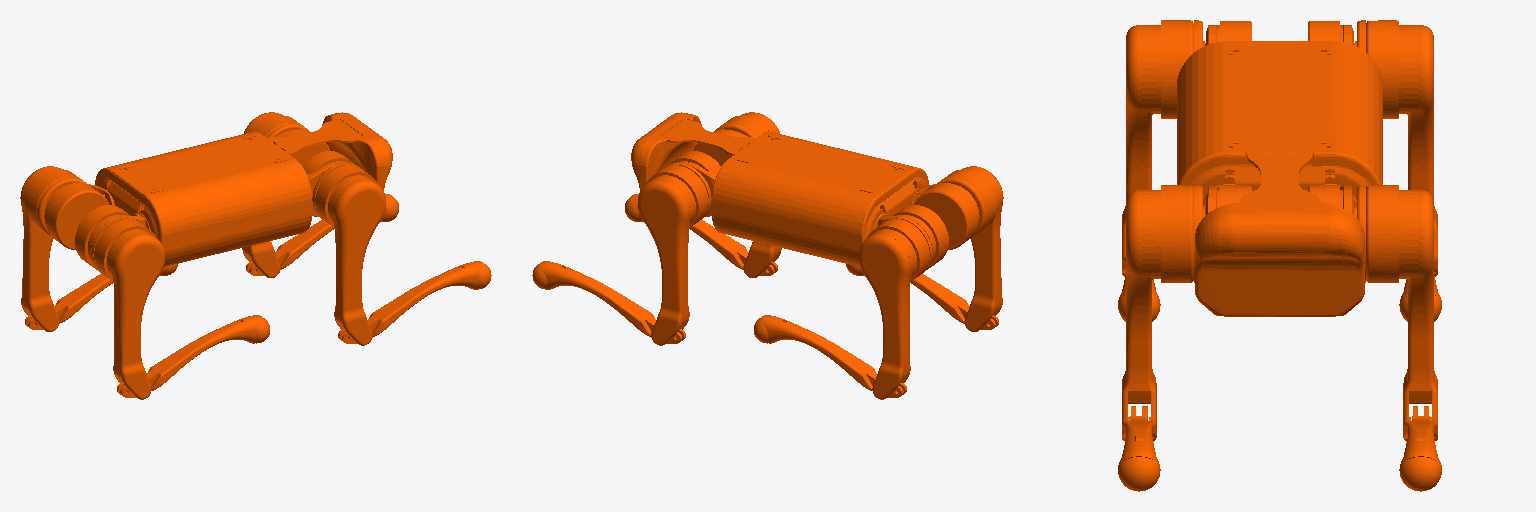
robot.urdf — a1_description:
<?xml version="1.0" ?>
<!-- =================================================================================== -->
<!-- |    This document was autogenerated by xacro from robot.xacro                    | -->
<!-- |    EDITING THIS FILE BY HAND IS NOT RECOMMENDED                                 | -->
<!-- =================================================================================== -->
<robot name="a1_description" xmlns:xacro="http://www.ros.org/wiki/xacro">
  <material name="black">
    <color rgba="0.0 0.0 0.0 1.0"/>
  </material>
  <material name="blue">
    <color rgba="0.0 0.0 0.8 1.0"/>
  </material>
  <material name="green">
    <color rgba="0.0 0.8 0.0 1.0"/>
  </material>
  <material name="grey">
    <color rgba="0.2 0.2 0.2 1.0"/>
  </material>
  <material name="silver">
    <color rgba="0.913725490196 0.913725490196 0.847058823529 1.0"/>
  </material>
  <material name="orange">
    <color rgba="1.0 0.423529411765 0.0392156862745 1.0"/>
  </material>
  <material name="brown">
    <color rgba="0.870588235294 0.811764705882 0.764705882353 1.0"/>
  </material>
  <material name="red">
    <color rgba="0.8 0.0 0.0 1.0"/>
  </material>
  <material name="white">
    <color rgba="1.0 1.0 1.0 1.0"/>
  </material>
  <link name="base">
    <visual>
      <origin rpy="0 0 0" xyz="0 0 0"/>
      <geometry>
        <box size="0.001 0.001 0.001"/>
      </geometry>
    </visual>
  </link>
  <joint name="floating_base" type="fixed">
    <origin rpy="0 0 0" xyz="0 0 0"/>
    <parent link="base"/>
    <child link="trunk"/>
  </joint>
  <link name="trunk">
    <visual>
      <origin rpy="0 0 0" xyz="0 0 0"/>
      <geometry>
        <mesh filename="../meshes/trunk.obj" scale="1 1 1"/>
      </geometry>
      <material name="orange"/>
    </visual>
    <collision>
      <origin rpy="0 0 0" xyz="0 0 0"/>
      <geometry>
        <box size="0.267 0.194 0.114"/>
      </geometry>
    </collision>
    <inertial>
      <origin rpy="0 0 0" xyz="0.012731 0.002186 0.000515"/>
      <mass value="4.713"/>
      <inertia ixx="0.01683993" ixy="8.3902e-05" ixz="0.000597679" iyy="0.056579028" iyz="2.5134e-05" izz="0.064713601"/>
    </inertial>
  </link>
  <joint name="imu_joint" type="fixed">
    <parent link="trunk"/>
    <child link="imu_link"/>
    <origin rpy="0 0 0" xyz="0 0 0"/>
  </joint>
  <link name="imu_link">
    <inertial>
      <mass value="0.001"/>
      <origin rpy="0 0 0" xyz="0 0 0"/>
      <inertia ixx="0.0001" ixy="0" ixz="0" iyy="0.0001" iyz="0" izz="0.0001"/>
    </inertial>
    <visual>
      <origin rpy="0 0 0" xyz="0 0 0"/>
      <geometry>
        <box size="0.001 0.001 0.001"/>
      </geometry>
      <material name="red"/>
    </visual>
    <collision>
      <origin rpy="0 0 0" xyz="0 0 0"/>
      <geometry>
        <box size=".001 .001 .001"/>
      </geometry>
    </collision>
  </link>
  <joint name="FR_hip_joint" type="revolute">
    <origin rpy="0 0 0" xyz="0.183 -0.047 0"/>
    <parent link="trunk"/>
    <child link="FR_hip"/>
    <axis xyz="1 0 0"/>
    <dynamics damping="0" friction="0"/>
    <limit effort="20" lower="-0.802851455917" upper="0.802851455917" velocity="52.4"/>
  </joint>
  <link name="FR_hip">
    <visual>
      <origin rpy="3.14159265359 0 0" xyz="0 0 0"/>
      <geometry>
        <mesh filename="../meshes/hip.obj" scale="1 1 1"/>
      </geometry>
      <material name="orange"/>
    </visual>
    <collision>
      <origin rpy="1.57079632679 0 0" xyz="0 0 0"/>
      <geometry>
        <cylinder length="0.04" radius="0.046"/>
      </geometry>
    </collision>
    <inertial>
      <origin rpy="0 0 0" xyz="-0.003311 -0.000635 3.1e-05"/>
      <mass value="0.696"/>
      <inertia ixx="0.000469246" ixy="9.409e-06" ixz="-3.42e-07" iyy="0.00080749" iyz="4.66e-07" izz="0.000552929"/>
    </inertial>
  </link>
  <joint name="FR_hip_fixed" type="fixed">
    <origin rpy="0 0 0" xyz="0 -0.081 0"/>
    <parent link="FR_hip"/>
    <child link="FR_thigh_shoulder"/>
  </joint>
  <!-- this link is only for collision -->
  <link name="FR_thigh_shoulder">
    <collision>
      <origin rpy="1.57079632679 0 0" xyz="0 0 0"/>
      <geometry>
        <cylinder length="0.032" radius="0.041"/>
      </geometry>
    </collision>
  </link>
  <joint name="FR_thigh_joint" type="revolute">
    <origin rpy="0 0 0" xyz="0 -0.08505 0"/>
    <parent link="FR_hip"/>
    <child link="FR_thigh"/>
    <axis xyz="0 1 0"/>
    <dynamics damping="0" friction="0"/>
    <limit effort="55" lower="-1.0471975512" upper="4.18879020479" velocity="28.6"/>
  </joint>
  <link name="FR_thigh">
    <visual>
      <origin rpy="0 0 0" xyz="0 0 0"/>
      <geometry>
        <mesh filename="../meshes/thigh_mirror.obj" scale="1 1 1"/>
      </geometry>
      <material name="orange"/>
    </visual>
    <collision>
      <origin rpy="0 1.57079632679 0" xyz="0 0 -0.1"/>
      <geometry>
        <box size="0.2 0.0245 0.034"/>
      </geometry>
    </collision>
    <inertial>
      <origin rpy="0 0 0" xyz="-0.003237 0.022327 -0.027326"/>
      <mass value="1.013"/>
      <inertia ixx="0.005529065" ixy="-4.825e-06" ixz="0.000343869" iyy="0.005139339" iyz="-2.2448e-05" izz="0.001367788"/>
    </inertial>
  </link>
  <joint name="FR_calf_joint" type="revolute">
    <origin rpy="0 0 0" xyz="0 0 -0.2"/>
    <parent link="FR_thigh"/>
    <child link="FR_calf"/>
    <axis xyz="0 1 0"/>
    <dynamics damping="0" friction="0"/>
    <limit effort="55" lower="-2.69653369433" upper="-0.916297857297" velocity="28.6"/>
  </joint>
  <link name="FR_calf">
    <visual>
      <origin rpy="0 0 0" xyz="0 0 0"/>
      <geometry>
        <mesh filename="../meshes/calf.obj" scale="1 1 1"/>
      </geometry>
      <material name="orange"/>
    </visual>
    <collision>
      <origin rpy="0 1.57079632679 0" xyz="0 0 -0.1"/>
      <geometry>
        <box size="0.2 0.016 0.016"/>
      </geometry>
    </collision>
    <inertial>
      <origin rpy="0 0 0" xyz="0.006435 0.0 -0.107388"/>
      <mass value="0.166"/>
      <inertia ixx="0.002997972" ixy="0.0" ixz="-0.000141163" iyy="0.003014022" iyz="0.0" izz="3.2426e-05"/>
    </inertial>
  </link>
  <joint name="FR_foot_fixed" type="fixed">
    <origin rpy="0 0 0" xyz="0 0 -0.2"/>
    <parent link="FR_calf"/>
    <child link="FR_foot"/>
  </joint>
  <link name="FR_foot">
    <visual>
      <origin rpy="0 0 0" xyz="0 0 0"/>
      <geometry>
        <sphere radius="0.01"/>
      </geometry>
      <material name="orange"/>
    </visual>
    <collision>
      <origin rpy="0 0 0" xyz="0 0 0"/>
      <geometry>
        <sphere radius="0.02"/>
      </geometry>
    </collision>
    <inertial>
      <mass value="0.06"/>
      <inertia ixx="9.6e-06" ixy="0.0" ixz="0.0" iyy="9.6e-06" iyz="0.0" izz="9.6e-06"/>
    </inertial>
  </link>
  <transmission name="FR_hip_tran">
    <type>transmission_interface/SimpleTransmission</type>
    <joint name="FR_hip_joint">
      <hardwareInterface>hardware_interface/EffortJointInterface</hardwareInterface>
    </joint>
    <actuator name="FR_hip_motor">
      <hardwareInterface>hardware_interface/EffortJointInterface</hardwareInterface>
      <mechanicalReduction>1</mechanicalReduction>
    </actuator>
  </transmission>
  <transmission name="FR_thigh_tran">
    <type>transmission_interface/SimpleTransmission</type>
    <joint name="FR_thigh_joint">
      <hardwareInterface>hardware_interface/EffortJointInterface</hardwareInterface>
    </joint>
    <actuator name="FR_thigh_motor">
      <hardwareInterface>hardware_interface/EffortJointInterface</hardwareInterface>
      <mechanicalReduction>1</mechanicalReduction>
    </actuator>
  </transmission>
  <transmission name="FR_calf_tran">
    <type>transmission_interface/SimpleTransmission</type>
    <joint name="FR_calf_joint">
      <hardwareInterface>hardware_interface/EffortJointInterface</hardwareInterface>
    </joint>
    <actuator name="FR_calf_motor">
      <hardwareInterface>hardware_interface/EffortJointInterface</hardwareInterface>
      <mechanicalReduction>1</mechanicalReduction>
    </actuator>
  </transmission>
  <joint name="FL_hip_joint" type="revolute">
    <origin rpy="0 0 0" xyz="0.183 0.047 0"/>
    <parent link="trunk"/>
    <child link="FL_hip"/>
    <axis xyz="1 0 0"/>
    <dynamics damping="0" friction="0"/>
    <limit effort="20" lower="-0.802851455917" upper="0.802851455917" velocity="52.4"/>
  </joint>
  <link name="FL_hip">
    <visual>
      <origin rpy="0 0 0" xyz="0 0 0"/>
      <geometry>
        <mesh filename="../meshes/hip.obj" scale="1 1 1"/>
      </geometry>
      <material name="orange"/>
    </visual>
    <collision>
      <origin rpy="1.57079632679 0 0" xyz="0 0 0"/>
      <geometry>
        <cylinder length="0.04" radius="0.046"/>
      </geometry>
    </collision>
    <inertial>
      <origin rpy="0 0 0" xyz="-0.003311 0.000635 3.1e-05"/>
      <mass value="0.696"/>
      <inertia ixx="0.000469246" ixy="-9.409e-06" ixz="-3.42e-07" iyy="0.00080749" iyz="-4.66e-07" izz="0.000552929"/>
    </inertial>
  </link>
  <joint name="FL_hip_fixed" type="fixed">
    <origin rpy="0 0 0" xyz="0 0.081 0"/>
    <parent link="FL_hip"/>
    <child link="FL_thigh_shoulder"/>
  </joint>
  <!-- this link is only for collision -->
  <link name="FL_thigh_shoulder">
    <collision>
      <origin rpy="1.57079632679 0 0" xyz="0 0 0"/>
      <geometry>
        <cylinder length="0.032" radius="0.041"/>
      </geometry>
    </collision>
  </link>
  <joint name="FL_thigh_joint" type="revolute">
    <origin rpy="0 0 0" xyz="0 0.08505 0"/>
    <parent link="FL_hip"/>
    <child link="FL_thigh"/>
    <axis xyz="0 1 0"/>
    <dynamics damping="0" friction="0"/>
    <limit effort="55" lower="-1.0471975512" upper="4.18879020479" velocity="28.6"/>
  </joint>
  <link name="FL_thigh">
    <visual>
      <origin rpy="0 0 0" xyz="0 0 0"/>
      <geometry>
        <mesh filename="../meshes/thigh.obj" scale="1 1 1"/>
      </geometry>
      <material name="orange"/>
    </visual>
    <collision>
      <origin rpy="0 1.57079632679 0" xyz="0 0 -0.1"/>
      <geometry>
        <box size="0.2 0.0245 0.034"/>
      </geometry>
    </collision>
    <inertial>
      <origin rpy="0 0 0" xyz="-0.003237 -0.022327 -0.027326"/>
      <mass value="1.013"/>
      <inertia ixx="0.005529065" ixy="4.825e-06" ixz="0.000343869" iyy="0.005139339" iyz="2.2448e-05" izz="0.001367788"/>
    </inertial>
  </link>
  <joint name="FL_calf_joint" type="revolute">
    <origin rpy="0 0 0" xyz="0 0 -0.2"/>
    <parent link="FL_thigh"/>
    <child link="FL_calf"/>
    <axis xyz="0 1 0"/>
    <dynamics damping="0" friction="0"/>
    <limit effort="55" lower="-2.69653369433" upper="-0.916297857297" velocity="28.6"/>
  </joint>
  <link name="FL_calf">
    <visual>
      <origin rpy="0 0 0" xyz="0 0 0"/>
      <geometry>
        <mesh filename="../meshes/calf.obj" scale="1 1 1"/>
      </geometry>
      <material name="orange"/>
    </visual>
    <collision>
      <origin rpy="0 1.57079632679 0" xyz="0 0 -0.1"/>
      <geometry>
        <box size="0.2 0.016 0.016"/>
      </geometry>
    </collision>
    <inertial>
      <origin rpy="0 0 0" xyz="0.006435 0.0 -0.107388"/>
      <mass value="0.166"/>
      <inertia ixx="0.002997972" ixy="0.0" ixz="-0.000141163" iyy="0.003014022" iyz="0.0" izz="3.2426e-05"/>
    </inertial>
  </link>
  <joint name="FL_foot_fixed" type="fixed">
    <origin rpy="0 0 0" xyz="0 0 -0.2"/>
    <parent link="FL_calf"/>
    <child link="FL_foot"/>
  </joint>
  <link name="FL_foot">
    <visual>
      <origin rpy="0 0 0" xyz="0 0 0"/>
      <geometry>
        <sphere radius="0.01"/>
      </geometry>
      <material name="orange"/>
    </visual>
    <collision>
      <origin rpy="0 0 0" xyz="0 0 0"/>
      <geometry>
        <sphere radius="0.02"/>
      </geometry>
    </collision>
    <inertial>
      <mass value="0.06"/>
      <inertia ixx="9.6e-06" ixy="0.0" ixz="0.0" iyy="9.6e-06" iyz="0.0" izz="9.6e-06"/>
    </inertial>
  </link>
  <transmission name="FL_hip_tran">
    <type>transmission_interface/SimpleTransmission</type>
    <joint name="FL_hip_joint">
      <hardwareInterface>hardware_interface/EffortJointInterface</hardwareInterface>
    </joint>
    <actuator name="FL_hip_motor">
      <hardwareInterface>hardware_interface/EffortJointInterface</hardwareInterface>
      <mechanicalReduction>1</mechanicalReduction>
    </actuator>
  </transmission>
  <transmission name="FL_thigh_tran">
    <type>transmission_interface/SimpleTransmission</type>
    <joint name="FL_thigh_joint">
      <hardwareInterface>hardware_interface/EffortJointInterface</hardwareInterface>
    </joint>
    <actuator name="FL_thigh_motor">
      <hardwareInterface>hardware_interface/EffortJointInterface</hardwareInterface>
      <mechanicalReduction>1</mechanicalReduction>
    </actuator>
  </transmission>
  <transmission name="FL_calf_tran">
    <type>transmission_interface/SimpleTransmission</type>
    <joint name="FL_calf_joint">
      <hardwareInterface>hardware_interface/EffortJointInterface</hardwareInterface>
    </joint>
    <actuator name="FL_calf_motor">
      <hardwareInterface>hardware_interface/EffortJointInterface</hardwareInterface>
      <mechanicalReduction>1</mechanicalReduction>
    </actuator>
  </transmission>
  <joint name="RR_hip_joint" type="revolute">
    <origin rpy="0 0 0" xyz="-0.183 -0.047 0"/>
    <parent link="trunk"/>
    <child link="RR_hip"/>
    <axis xyz="1 0 0"/>
    <dynamics damping="0" friction="0"/>
    <limit effort="20" lower="-0.802851455917" upper="0.802851455917" velocity="52.4"/>
  </joint>
  <link name="RR_hip">
    <visual>
      <origin rpy="3.14159265359 3.14159265359 0" xyz="0 0 0"/>
      <geometry>
        <mesh filename="../meshes/hip.obj" scale="1 1 1"/>
      </geometry>
      <material name="orange"/>
    </visual>
    <collision>
      <origin rpy="1.57079632679 0 0" xyz="0 0 0"/>
      <geometry>
        <cylinder length="0.04" radius="0.046"/>
      </geometry>
    </collision>
    <inertial>
      <origin rpy="0 0 0" xyz="0.003311 -0.000635 3.1e-05"/>
      <mass value="0.696"/>
      <inertia ixx="0.000469246" ixy="-9.409e-06" ixz="3.42e-07" iyy="0.00080749" iyz="4.66e-07" izz="0.000552929"/>
    </inertial>
  </link>
  <joint name="RR_hip_fixed" type="fixed">
    <origin rpy="0 0 0" xyz="0 -0.081 0"/>
    <parent link="RR_hip"/>
    <child link="RR_thigh_shoulder"/>
  </joint>
  <!-- this link is only for collision -->
  <link name="RR_thigh_shoulder">
    <collision>
      <origin rpy="1.57079632679 0 0" xyz="0 0 0"/>
      <geometry>
        <cylinder length="0.032" radius="0.041"/>
      </geometry>
    </collision>
  </link>
  <joint name="RR_thigh_joint" type="revolute">
    <origin rpy="0 0 0" xyz="0 -0.08505 0"/>
    <parent link="RR_hip"/>
    <child link="RR_thigh"/>
    <axis xyz="0 1 0"/>
    <dynamics damping="0" friction="0"/>
    <limit effort="55" lower="-1.0471975512" upper="4.18879020479" velocity="28.6"/>
  </joint>
  <link name="RR_thigh">
    <visual>
      <origin rpy="0 0 0" xyz="0 0 0"/>
      <geometry>
        <mesh filename="../meshes/thigh_mirror.obj" scale="1 1 1"/>
      </geometry>
      <material name="orange"/>
    </visual>
    <collision>
      <origin rpy="0 1.57079632679 0" xyz="0 0 -0.1"/>
      <geometry>
        <box size="0.2 0.0245 0.034"/>
      </geometry>
    </collision>
    <inertial>
      <origin rpy="0 0 0" xyz="-0.003237 0.022327 -0.027326"/>
      <mass value="1.013"/>
      <inertia ixx="0.005529065" ixy="-4.825e-06" ixz="0.000343869" iyy="0.005139339" iyz="-2.2448e-05" izz="0.001367788"/>
    </inertial>
  </link>
  <joint name="RR_calf_joint" type="revolute">
    <origin rpy="0 0 0" xyz="0 0 -0.2"/>
    <parent link="RR_thigh"/>
    <child link="RR_calf"/>
    <axis xyz="0 1 0"/>
    <dynamics damping="0" friction="0"/>
    <limit effort="55" lower="-2.69653369433" upper="-0.916297857297" velocity="28.6"/>
  </joint>
  <link name="RR_calf">
    <visual>
      <origin rpy="0 0 0" xyz="0 0 0"/>
      <geometry>
        <mesh filename="../meshes/calf.obj" scale="1 1 1"/>
      </geometry>
      <material name="orange"/>
    </visual>
    <collision>
      <origin rpy="0 1.57079632679 0" xyz="0 0 -0.1"/>
      <geometry>
        <box size="0.2 0.016 0.016"/>
      </geometry>
    </collision>
    <inertial>
      <origin rpy="0 0 0" xyz="0.006435 0.0 -0.107388"/>
      <mass value="0.166"/>
      <inertia ixx="0.002997972" ixy="0.0" ixz="-0.000141163" iyy="0.003014022" iyz="0.0" izz="3.2426e-05"/>
    </inertial>
  </link>
  <joint name="RR_foot_fixed" type="fixed">
    <origin rpy="0 0 0" xyz="0 0 -0.2"/>
    <parent link="RR_calf"/>
    <child link="RR_foot"/>
  </joint>
  <link name="RR_foot">
    <visual>
      <origin rpy="0 0 0" xyz="0 0 0"/>
      <geometry>
        <sphere radius="0.01"/>
      </geometry>
      <material name="orange"/>
    </visual>
    <collision>
      <origin rpy="0 0 0" xyz="0 0 0"/>
      <geometry>
        <sphere radius="0.02"/>
      </geometry>
    </collision>
    <inertial>
      <mass value="0.06"/>
      <inertia ixx="9.6e-06" ixy="0.0" ixz="0.0" iyy="9.6e-06" iyz="0.0" izz="9.6e-06"/>
    </inertial>
  </link>
  <transmission name="RR_hip_tran">
    <type>transmission_interface/SimpleTransmission</type>
    <joint name="RR_hip_joint">
      <hardwareInterface>hardware_interface/EffortJointInterface</hardwareInterface>
    </joint>
    <actuator name="RR_hip_motor">
      <hardwareInterface>hardware_interface/EffortJointInterface</hardwareInterface>
      <mechanicalReduction>1</mechanicalReduction>
    </actuator>
  </transmission>
  <transmission name="RR_thigh_tran">
    <type>transmission_interface/SimpleTransmission</type>
    <joint name="RR_thigh_joint">
      <hardwareInterface>hardware_interface/EffortJointInterface</hardwareInterface>
    </joint>
    <actuator name="RR_thigh_motor">
      <hardwareInterface>hardware_interface/EffortJointInterface</hardwareInterface>
      <mechanicalReduction>1</mechanicalReduction>
    </actuator>
  </transmission>
  <transmission name="RR_calf_tran">
    <type>transmission_interface/SimpleTransmission</type>
    <joint name="RR_calf_joint">
      <hardwareInterface>hardware_interface/EffortJointInterface</hardwareInterface>
    </joint>
    <actuator name="RR_calf_motor">
      <hardwareInterface>hardware_interface/EffortJointInterface</hardwareInterface>
      <mechanicalReduction>1</mechanicalReduction>
    </actuator>
  </transmission>
  <joint name="RL_hip_joint" type="revolute">
    <origin rpy="0 0 0" xyz="-0.183 0.047 0"/>
    <parent link="trunk"/>
    <child link="RL_hip"/>
    <axis xyz="1 0 0"/>
    <dynamics damping="0" friction="0"/>
    <limit effort="20" lower="-0.802851455917" upper="0.802851455917" velocity="52.4"/>
  </joint>
  <link name="RL_hip">
    <visual>
      <origin rpy="0 3.14159265359 0" xyz="0 0 0"/>
      <geometry>
        <mesh filename="../meshes/hip.obj" scale="1 1 1"/>
      </geometry>
      <material name="orange"/>
    </visual>
    <collision>
      <origin rpy="1.57079632679 0 0" xyz="0 0 0"/>
      <geometry>
        <cylinder length="0.04" radius="0.046"/>
      </geometry>
    </collision>
    <inertial>
      <origin rpy="0 0 0" xyz="0.003311 0.000635 3.1e-05"/>
      <mass value="0.696"/>
      <inertia ixx="0.000469246" ixy="9.409e-06" ixz="3.42e-07" iyy="0.00080749" iyz="-4.66e-07" izz="0.000552929"/>
    </inertial>
  </link>
  <joint name="RL_hip_fixed" type="fixed">
    <origin rpy="0 0 0" xyz="0 0.081 0"/>
    <parent link="RL_hip"/>
    <child link="RL_thigh_shoulder"/>
  </joint>
  <!-- this link is only for collision -->
  <link name="RL_thigh_shoulder">
    <collision>
      <origin rpy="1.57079632679 0 0" xyz="0 0 0"/>
      <geometry>
        <cylinder length="0.032" radius="0.041"/>
      </geometry>
    </collision>
  </link>
  <joint name="RL_thigh_joint" type="revolute">
    <origin rpy="0 0 0" xyz="0 0.08505 0"/>
    <parent link="RL_hip"/>
    <child link="RL_thigh"/>
    <axis xyz="0 1 0"/>
    <dynamics damping="0" friction="0"/>
    <limit effort="55" lower="-1.0471975512" upper="4.18879020479" velocity="28.6"/>
  </joint>
  <link name="RL_thigh">
    <visual>
      <origin rpy="0 0 0" xyz="0 0 0"/>
      <geometry>
        <mesh filename="../meshes/thigh.obj" scale="1 1 1"/>
      </geometry>
      <material name="orange"/>
    </visual>
    <collision>
      <origin rpy="0 1.57079632679 0" xyz="0 0 -0.1"/>
      <geometry>
        <box size="0.2 0.0245 0.034"/>
      </geometry>
    </collision>
    <inertial>
      <origin rpy="0 0 0" xyz="-0.003237 -0.022327 -0.027326"/>
      <mass value="1.013"/>
      <inertia ixx="0.005529065" ixy="4.825e-06" ixz="0.000343869" iyy="0.005139339" iyz="2.2448e-05" izz="0.001367788"/>
    </inertial>
  </link>
  <joint name="RL_calf_joint" type="revolute">
    <origin rpy="0 0 0" xyz="0 0 -0.2"/>
    <parent link="RL_thigh"/>
    <child link="RL_calf"/>
    <axis xyz="0 1 0"/>
    <dynamics damping="0" friction="0"/>
    <limit effort="55" lower="-2.69653369433" upper="-0.916297857297" velocity="28.6"/>
  </joint>
  <link name="RL_calf">
    <visual>
      <origin rpy="0 0 0" xyz="0 0 0"/>
      <geometry>
        <mesh filename="../meshes/calf.obj" scale="1 1 1"/>
      </geometry>
      <material name="orange"/>
    </visual>
    <collision>
      <origin rpy="0 1.57079632679 0" xyz="0 0 -0.1"/>
      <geometry>
        <box size="0.2 0.016 0.016"/>
      </geometry>
    </collision>
    <inertial>
      <origin rpy="0 0 0" xyz="0.006435 0.0 -0.107388"/>
      <mass value="0.166"/>
      <inertia ixx="0.002997972" ixy="0.0" ixz="-0.000141163" iyy="0.003014022" iyz="0.0" izz="3.2426e-05"/>
    </inertial>
  </link>
  <joint name="RL_foot_fixed" type="fixed">
    <origin rpy="0 0 0" xyz="0 0 -0.2"/>
    <parent link="RL_calf"/>
    <child link="RL_foot"/>
  </joint>
  <link name="RL_foot">
    <visual>
      <origin rpy="0 0 0" xyz="0 0 0"/>
      <geometry>
        <sphere radius="0.01"/>
      </geometry>
      <material name="orange"/>
    </visual>
    <collision>
      <origin rpy="0 0 0" xyz="0 0 0"/>
      <geometry>
        <sphere radius="0.02"/>
      </geometry>
    </collision>
    <inertial>
      <mass value="0.06"/>
      <inertia ixx="9.6e-06" ixy="0.0" ixz="0.0" iyy="9.6e-06" iyz="0.0" izz="9.6e-06"/>
    </inertial>
  </link>
  <transmission name="RL_hip_tran">
    <type>transmission_interface/SimpleTransmission</type>
    <joint name="RL_hip_joint">
      <hardwareInterface>hardware_interface/EffortJointInterface</hardwareInterface>
    </joint>
    <actuator name="RL_hip_motor">
      <hardwareInterface>hardware_interface/EffortJointInterface</hardwareInterface>
      <mechanicalReduction>1</mechanicalReduction>
    </actuator>
  </transmission>
  <transmission name="RL_thigh_tran">
    <type>transmission_interface/SimpleTransmission</type>
    <joint name="RL_thigh_joint">
      <hardwareInterface>hardware_interface/EffortJointInterface</hardwareInterface>
    </joint>
    <actuator name="RL_thigh_motor">
      <hardwareInterface>hardware_interface/EffortJointInterface</hardwareInterface>
      <mechanicalReduction>1</mechanicalReduction>
    </actuator>
  </transmission>
  <transmission name="RL_calf_tran">
    <type>transmission_interface/SimpleTransmission</type>
    <joint name="RL_calf_joint">
      <hardwareInterface>hardware_interface/EffortJointInterface</hardwareInterface>
    </joint>
    <actuator name="RL_calf_motor">
      <hardwareInterface>hardware_interface/EffortJointInterface</hardwareInterface>
      <mechanicalReduction>1</mechanicalReduction>
    </actuator>
  </transmission>
</robot>

--- Render facts (derived) ---
The picture shows the robot from 3 angles, left to right: view 1: azimuth 30°, elevation 25°; view 2: azimuth 150°, elevation 25°; view 3: azimuth 270°, elevation 25°; orthographic projection.
Model a1_description with 23 links and 22 joints (12 revolute, 10 fixed), rooted at base, posed all joints at 0 but 4 set to mid-range because 0 is outside their limits (FR_calf_joint = -1.81, FL_calf_joint = -1.81, RR_calf_joint = -1.81, RL_calf_joint = -1.81).
Links seen in each view (by area): view 1: trunk, RR_thigh, FR_thigh, RL_thigh, FR_calf, RR_calf, RL_hip, FL_thigh, FL_calf, RL_calf, RR_hip, FR_hip; view 2: trunk, RL_thigh, FL_thigh, RR_thigh, FL_calf, RL_calf, RR_hip, FR_thigh, FR_calf, RR_calf, RL_hip, FL_hip; view 3: trunk, FR_thigh, FL_thigh, RR_thigh, RL_thigh, FR_calf, FL_calf, RR_hip, RL_hip, FL_hip, FR_hip, RL_calf (+1 smaller).
Link boxes in pixels (x1=…): trunk: x1=95, y1=112, x2=392, y2=266; RR_thigh: x1=91, y1=217, x2=164, y2=399; FR_thigh: x1=312, y1=163, x2=385, y2=345; RL_thigh: x1=20, y1=166, x2=86, y2=331; FR_calf: x1=338, y1=261, x2=491, y2=343; RR_calf: x1=117, y1=315, x2=269, y2=397; RL_hip: x1=44, y1=183, x2=114, y2=249; FL_thigh: x1=242, y1=112, x2=308, y2=277; FL_calf: x1=246, y1=194, x2=398, y2=275; RL_calf: x1=25, y1=264, x2=177, y2=329; RR_hip: x1=75, y1=205, x2=145, y2=269; FR_hip: x1=303, y1=151, x2=353, y2=216; trunk: x1=631, y1=112, x2=928, y2=266; RL_thigh: x1=859, y1=217, x2=932, y2=399; FL_thigh: x1=638, y1=163, x2=711, y2=345; RR_thigh: x1=937, y1=166, x2=1003, y2=331; FL_calf: x1=532, y1=261, x2=685, y2=343; RL_calf: x1=754, y1=315, x2=906, y2=397; RR_hip: x1=909, y1=183, x2=979, y2=249; FR_thigh: x1=715, y1=112, x2=781, y2=277; FR_calf: x1=625, y1=194, x2=777, y2=275; RR_calf: x1=846, y1=264, x2=998, y2=329; RL_hip: x1=878, y1=205, x2=948, y2=269; FL_hip: x1=670, y1=151, x2=720, y2=216; trunk: x1=1177, y1=41, x2=1382, y2=316; FR_thigh: x1=1122, y1=185, x2=1204, y2=441; FL_thigh: x1=1355, y1=185, x2=1437, y2=441; RR_thigh: x1=1122, y1=20, x2=1204, y2=276; RL_thigh: x1=1355, y1=20, x2=1437, y2=276; FR_calf: x1=1118, y1=406, x2=1160, y2=491; FL_calf: x1=1399, y1=406, x2=1441, y2=491; RR_hip: x1=1205, y1=21, x2=1251, y2=45; RL_hip: x1=1308, y1=21, x2=1354, y2=45; FL_hip: x1=1308, y1=185, x2=1354, y2=215; FR_hip: x1=1205, y1=185, x2=1251, y2=215; RL_calf: x1=1399, y1=256, x2=1441, y2=321.
Bounding box of the posed robot: 0.6265 × 0.3041 × 0.272 m (x, y, z).
13 mesh visuals loaded from 5 distinct referenced files (5 OBJ).